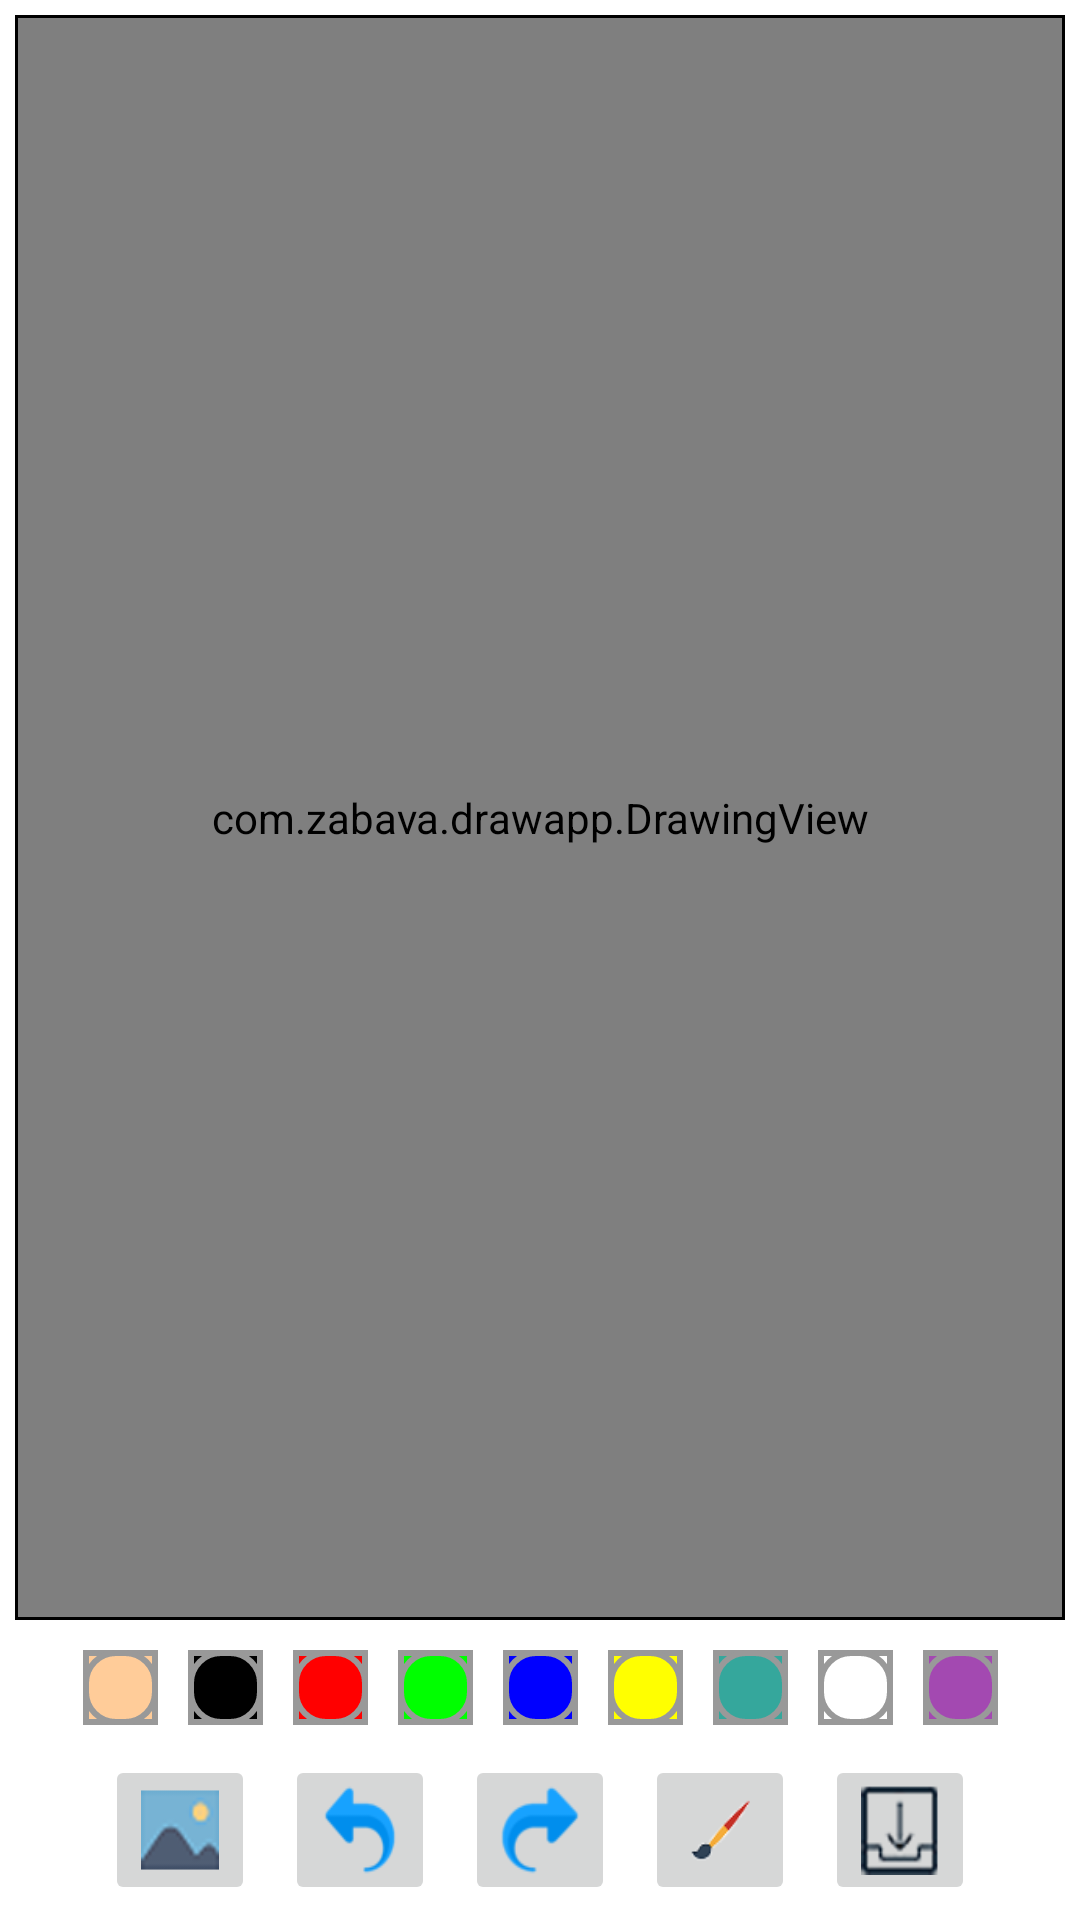

Where icons sit on this 1080px×1920px app screen, as (x1, y1, x2, y2):
BrushPicker Button: (657, 1773, 783, 1887)
Gallery Button: (117, 1773, 243, 1887)
Redo Button: (477, 1773, 603, 1887)
Save Button: (837, 1773, 963, 1887)
Skin Color: (83, 1650, 158, 1725)
Undo Button: (297, 1773, 423, 1887)
